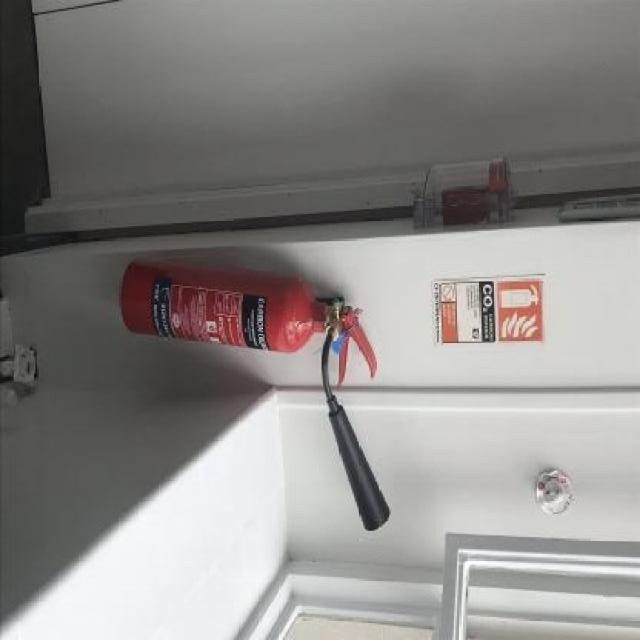fire extinguisher: (122, 260, 390, 532)
